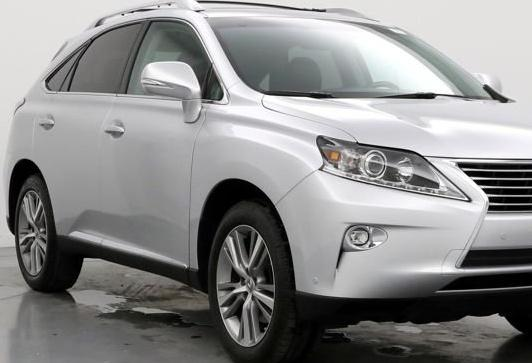Crossovers: (5, 1, 532, 363)
